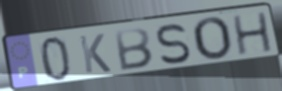0: (38, 35, 73, 83)
B: (113, 26, 155, 73)
H: (230, 10, 276, 58)
K: (77, 32, 114, 75)
O: (190, 15, 234, 62)
S: (155, 22, 193, 66)
